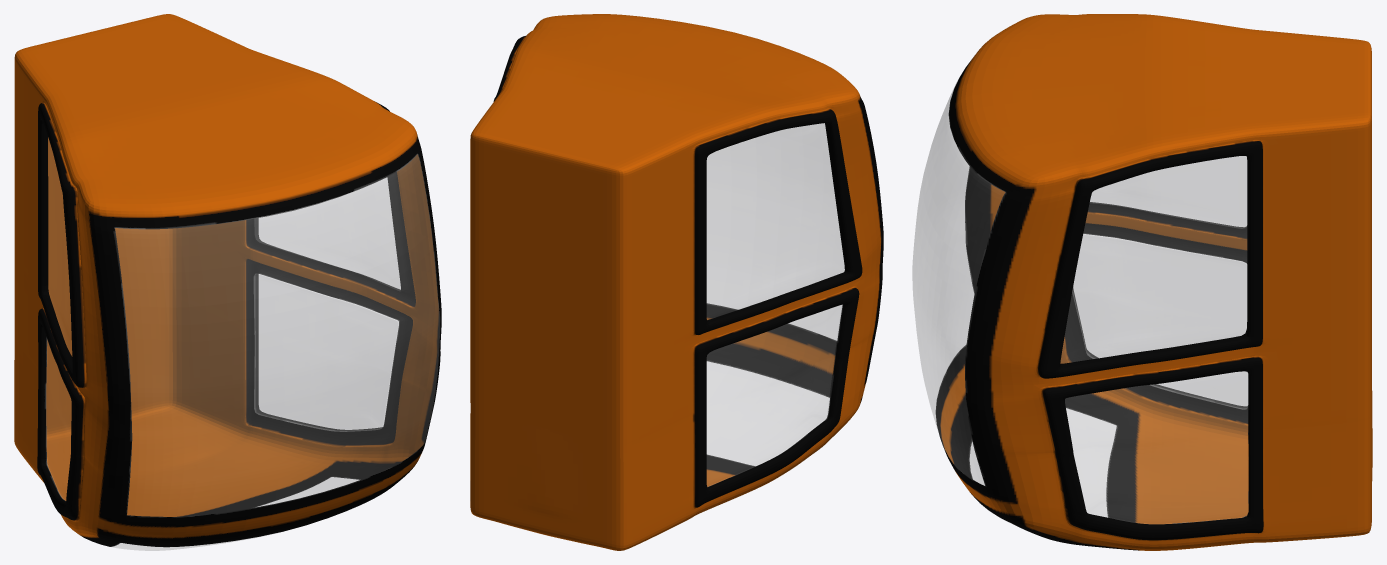
The model's file is Julian_Cabina.fbx.
The picture shows the model from 3 angles, left to right: view 1: azimuth 30°, elevation 25°; view 2: azimuth 150°, elevation 25°; view 3: azimuth 270°, elevation 25°; orthographic projection. The views are drawn at different scales.
Parts seen in each view (by area): view 1: OBJ_Maquina1:Mesh; view 2: OBJ_Maquina1:Mesh; view 3: OBJ_Maquina1:Mesh.
Boxes of the visible parts, x1,y1,x2,y2 form: OBJ_Maquina1:Mesh: (14,14,441,550); OBJ_Maquina1:Mesh: (470,14,883,550); OBJ_Maquina1:Mesh: (912,14,1372,550).
Size of the model in its own units: 5.13 by 5.78 by 5.68.
2 materials, 1 textured.
